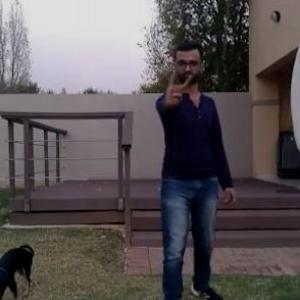takeoff-hand: (154, 58, 192, 112)
